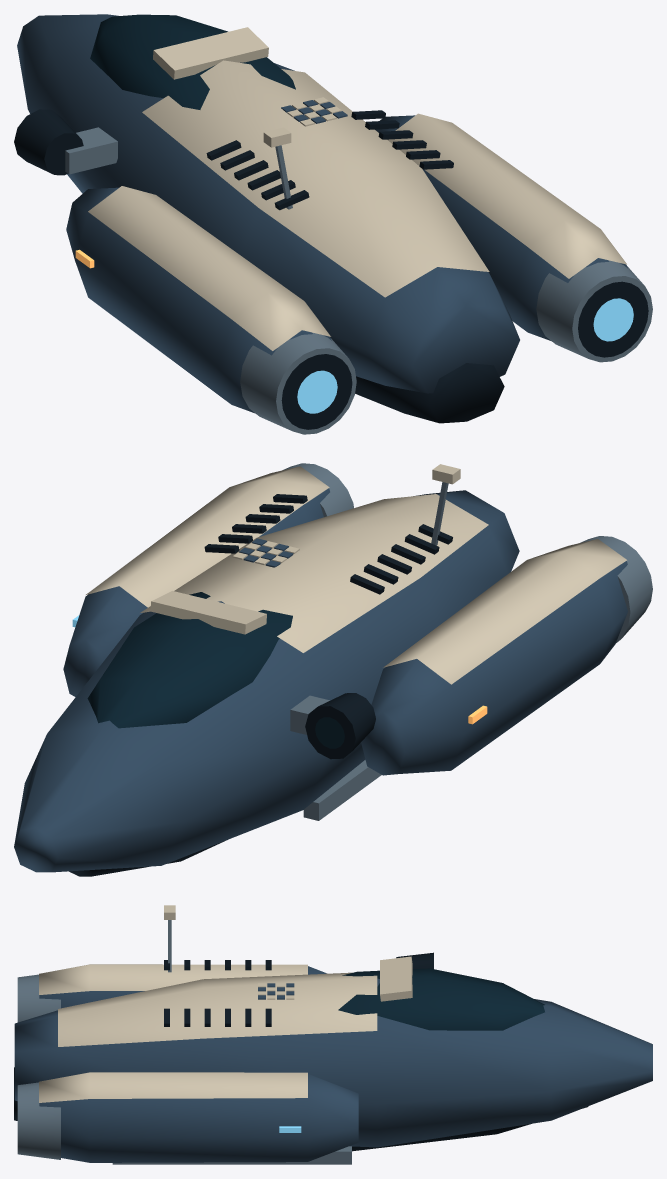
The model's file is spike-explorer.glb.
The picture shows the model from 3 angles, top to bottom: view 1: azimuth 30°, elevation 25°; view 2: azimuth 150°, elevation 25°; view 3: azimuth 270°, elevation 25°; orthographic projection. The views are drawn at different scales.
Parts seen in each view (by area): view 1: blue_grey_coating, warm_ceramic_panels, recess_and_radiator, exposed_titanium, smoked_cockpit, engine_core; view 2: blue_grey_coating, warm_ceramic_panels, smoked_cockpit, recess_and_radiator, exposed_titanium; view 3: blue_grey_coating, warm_ceramic_panels, smoked_cockpit, exposed_titanium, recess_and_radiator.
Part boxes in pixels (left/top/right/bottom): blue_grey_coating: left=17, top=14, right=627, bottom=413; warm_ceramic_panels: left=88, top=27, right=626, bottom=350; recess_and_radiator: left=14, top=109, right=648, bottom=429; exposed_titanium: left=65, top=127, right=652, bottom=434; smoked_cockpit: left=90, top=14, right=295, bottom=109; engine_core: left=297, top=298, right=633, bottom=413; blue_grey_coating: left=14, top=488, right=627, bottom=872; warm_ceramic_panels: left=86, top=464, right=626, bottom=684; smoked_cockpit: left=87, top=592, right=344, bottom=748; recess_and_radiator: left=69, top=494, right=452, bottom=876; exposed_titanium: left=283, top=463, right=652, bottom=820; blue_grey_coating: left=14, top=966, right=652, bottom=1162; warm_ceramic_panels: left=39, top=905, right=412, bottom=1102; smoked_cockpit: left=338, top=968, right=544, bottom=1030; exposed_titanium: left=17, top=920, right=351, bottom=1164; recess_and_radiator: left=14, top=952, right=588, bottom=1151.
Bounding box in the file's own units: 2.37 × 1.53 × 4.41.
